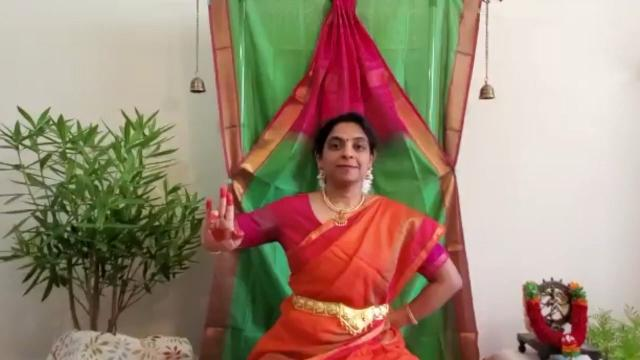tripataka: (193, 176, 253, 272)
